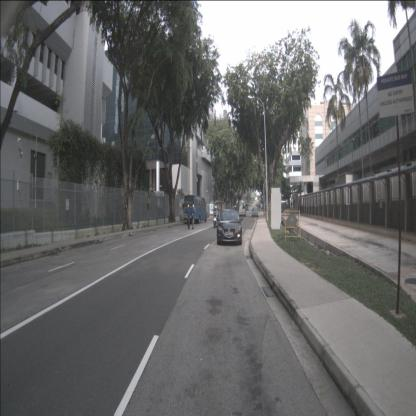human-pedestrian-adult: (290, 198, 292, 209), (293, 198, 295, 208)
vehicle-bus-rigid: (183, 195, 207, 223)
vehicle-car: (217, 209, 242, 245), (252, 207, 258, 217), (244, 203, 248, 211)
vehicle-motorcycle: (213, 206, 219, 228)
vehicle-truck: (239, 200, 246, 217)
